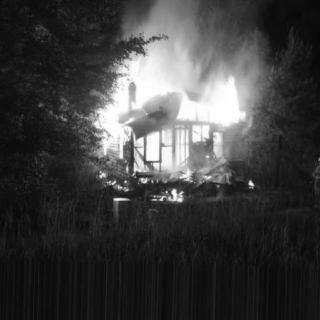Fire: (98, 51, 252, 205)
